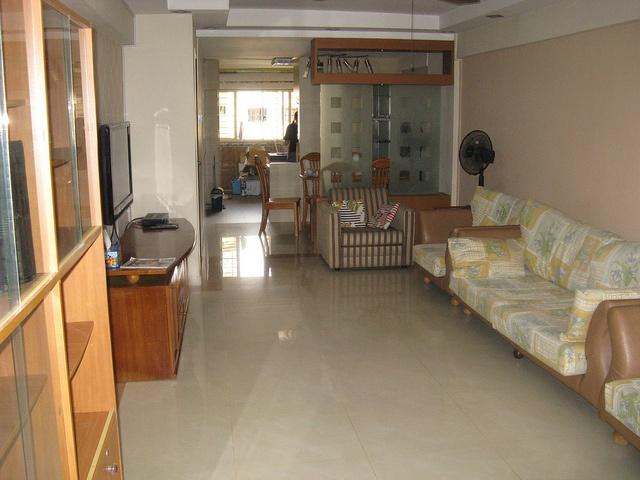AIO PC-Monitor-TV: (97, 118, 133, 225)
Kursi: (253, 154, 301, 235)
